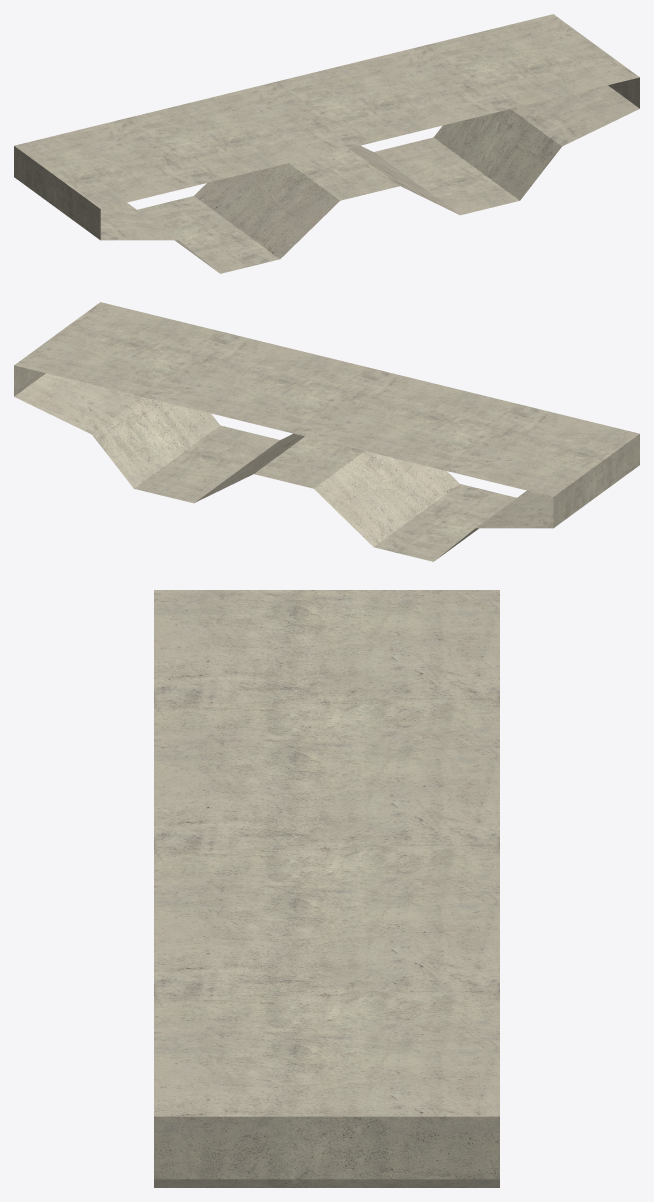
Rendered from BridgeBase2-18w-5l-3d.FBX.
3 renders of one model, top to bottom at view 1: azimuth 30°, elevation 25°; view 2: azimuth 150°, elevation 25°; view 3: azimuth 270°, elevation 25°, orthographic. The views are drawn at different scales.
Parts seen in each view (by area): view 1: BridgeBase2-18w-5l-3d; view 2: BridgeBase2-18w-5l-3d; view 3: BridgeBase2-18w-5l-3d.
Part boxes in pixels (bbox=[...]): BridgeBase2-18w-5l-3d: bbox=[14, 14, 639, 273]; BridgeBase2-18w-5l-3d: bbox=[14, 302, 639, 561]; BridgeBase2-18w-5l-3d: bbox=[154, 590, 499, 1187].
Size of the model in its own units: 18 by 3 by 5.
